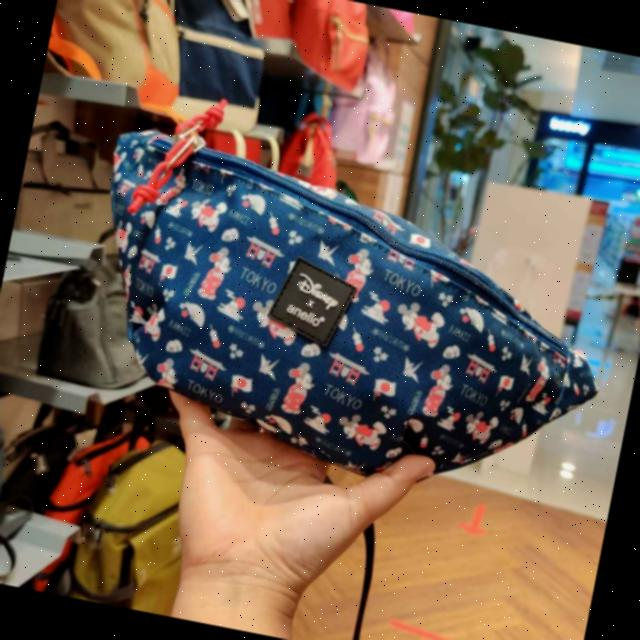Handbag: (61, 122, 629, 518)
